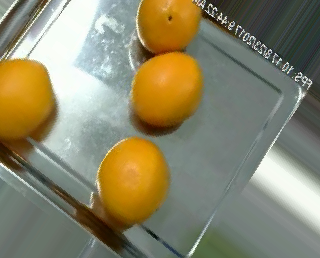Orange: (96, 136, 172, 223), (130, 50, 204, 126), (1, 59, 56, 139), (135, 1, 202, 55)
